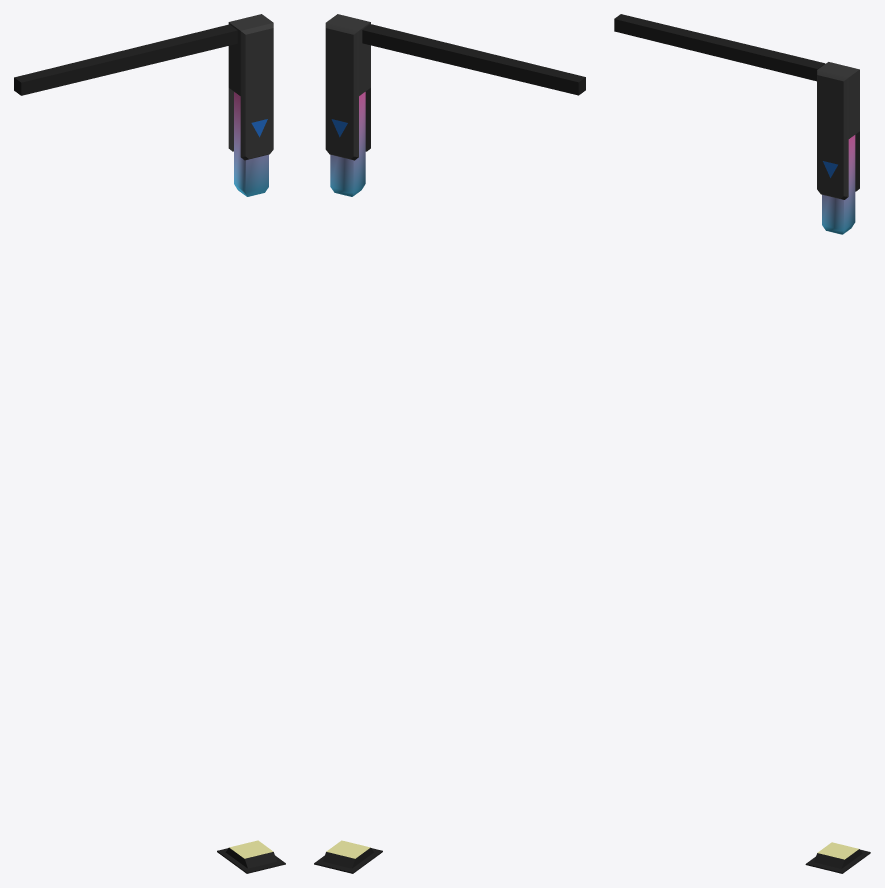
Rendered from W_AD_Streetlamp_b_001_L1.fbx.
3 views of the same model, side by side, from view 1: azimuth 30°, elevation 25°; view 2: azimuth 150°, elevation 25°; view 3: azimuth 330°, elevation 25° (orthographic). The views are drawn at different scales.
Visible parts, largest first — view 1: W_O_Streetlamp_004_b_L1; view 2: W_O_Streetlamp_004_b_L1; view 3: W_O_Streetlamp_004_b_L1.
Part boxes in pixels (x1,y1,x2,y2): W_O_Streetlamp_004_b_L1: [14, 14, 285, 873]; W_O_Streetlamp_004_b_L1: [314, 14, 585, 873]; W_O_Streetlamp_004_b_L1: [614, 14, 870, 873].
Size of the model in its own units: 1.47 by 4.63 by 0.3007.
